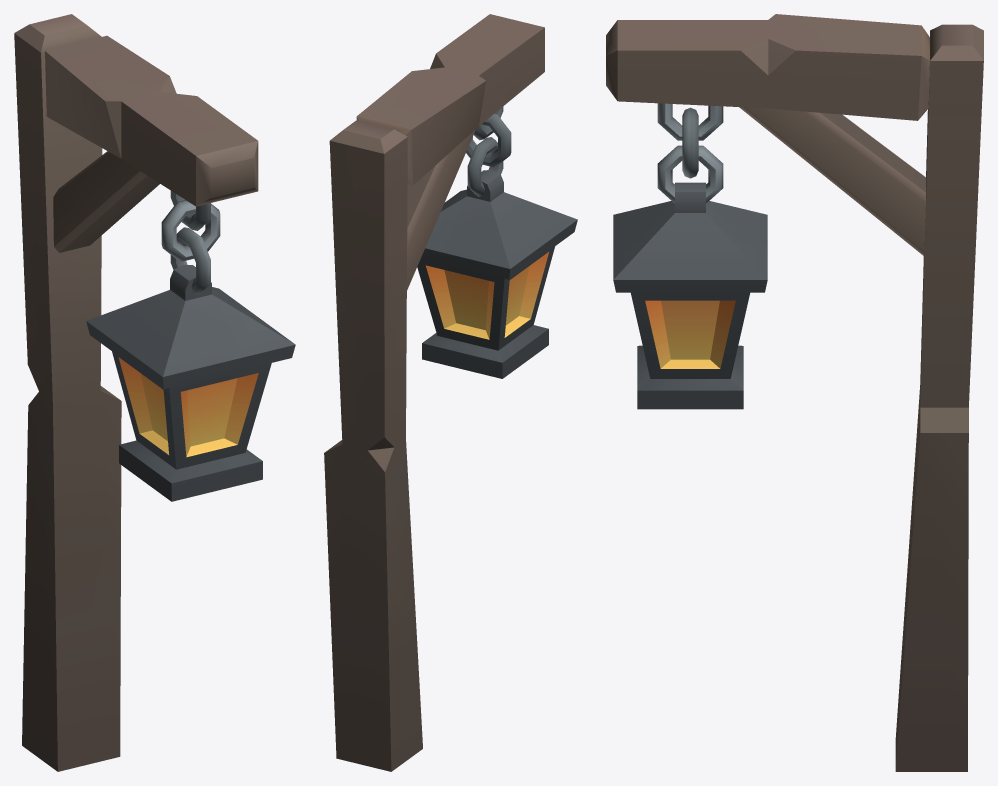
File: h_post_lantern.glb
3 renders of one model, left to right at view 1: azimuth 30°, elevation 25°; view 2: azimuth 150°, elevation 25°; view 3: azimuth 270°, elevation 25°, orthographic. The views are drawn at different scales.
Parts seen in each view (by area): view 1: Cube.124, post_lantern_lantern; view 2: Cube.124, post_lantern_lantern; view 3: Cube.124, post_lantern_lantern.
Boxes of the visible parts, bbox=[...] form: Cube.124: bbox=[14, 14, 258, 771]; post_lantern_lantern: bbox=[86, 191, 295, 501]; Cube.124: bbox=[324, 14, 544, 771]; post_lantern_lantern: bbox=[417, 106, 577, 378]; Cube.124: bbox=[606, 14, 983, 771]; post_lantern_lantern: bbox=[613, 103, 767, 409].
Bounding box in the file's own units: 0.64 × 3.3 × 1.57.
Materials: 1 (1 with a texture image).
